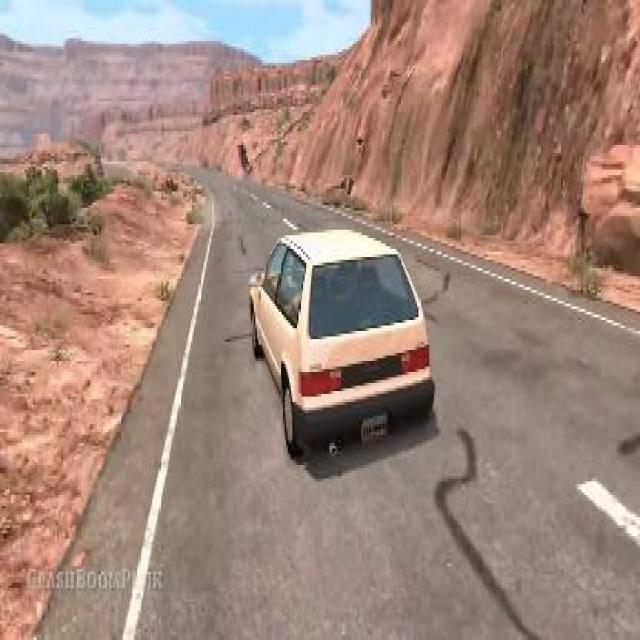accident: (234, 137, 249, 172)
